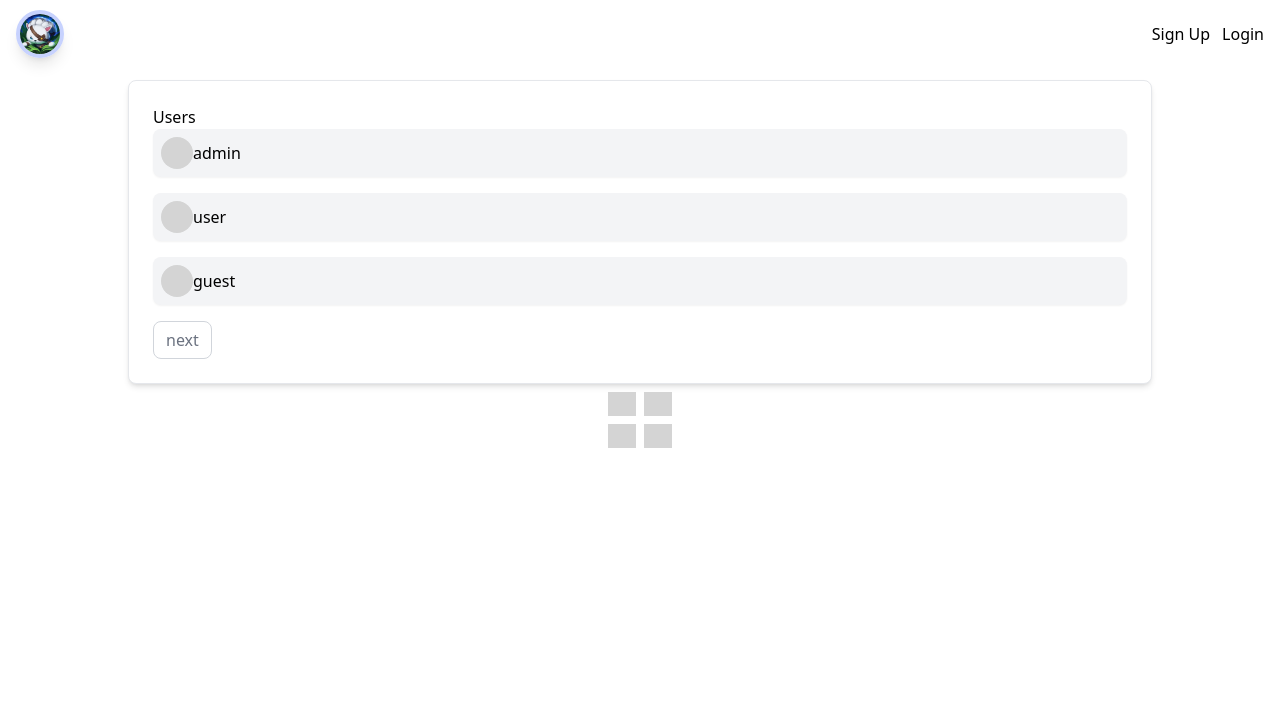
App › Routing › should display signup-page when clicking on /
Click the link "Sign Up".
click(1181, 34)  # box [1152,22,1210,46]
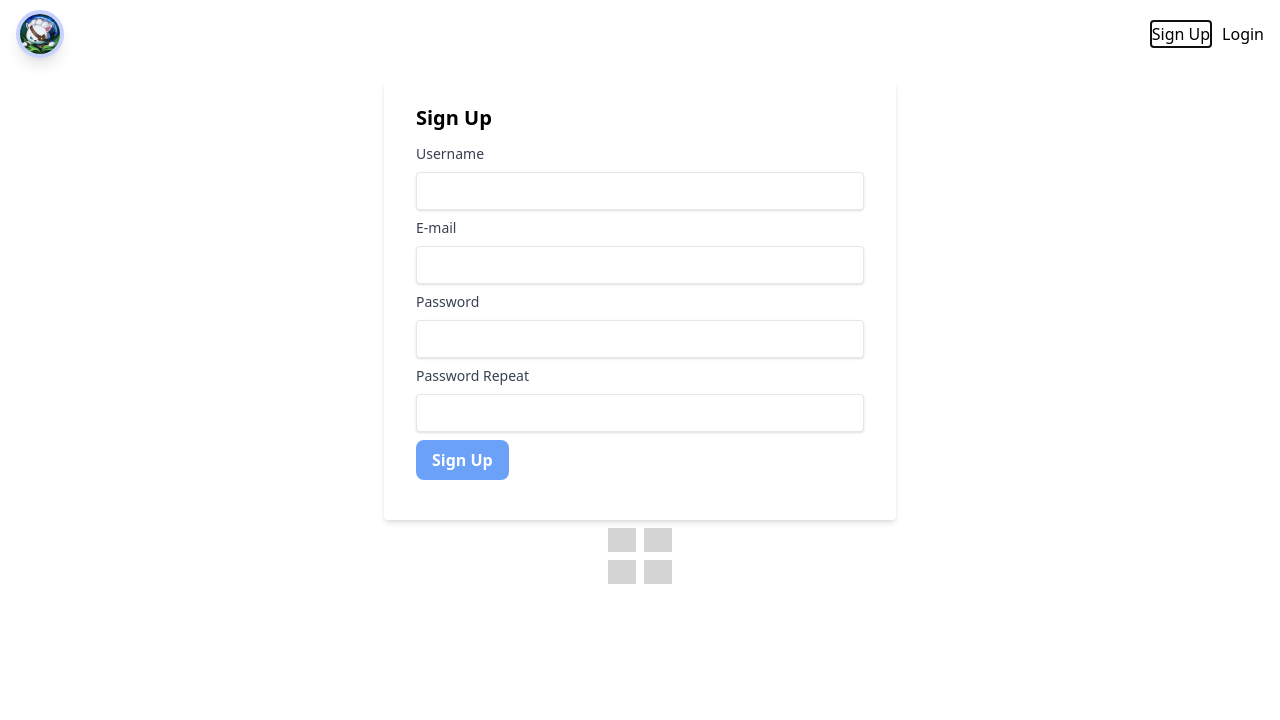
Expected: the element with test id "signup-page" is shown, [384,80,896,520]
